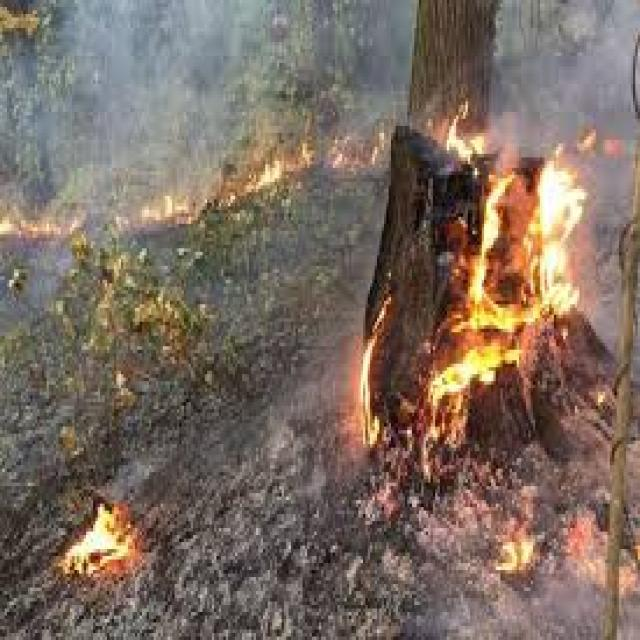Fire: (444, 125, 588, 413), (215, 122, 386, 202), (63, 507, 135, 577), (118, 188, 198, 236), (354, 328, 382, 453), (0, 206, 86, 240), (495, 535, 541, 577)
